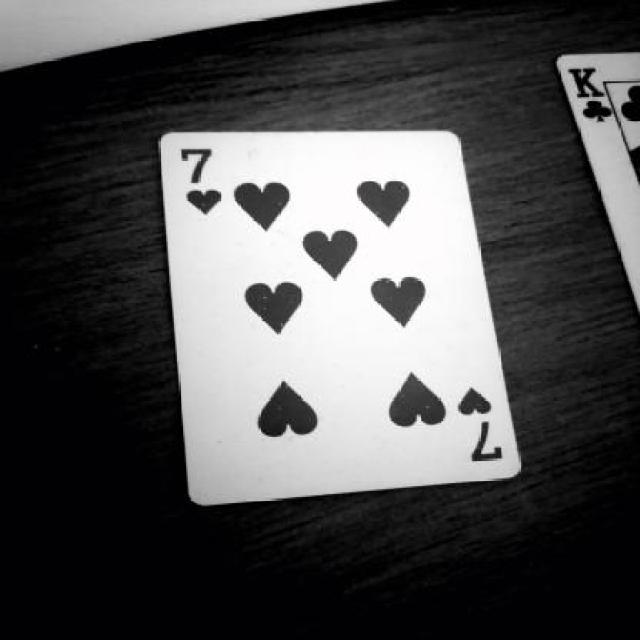7H: (454, 386, 518, 477), (178, 136, 232, 224)
